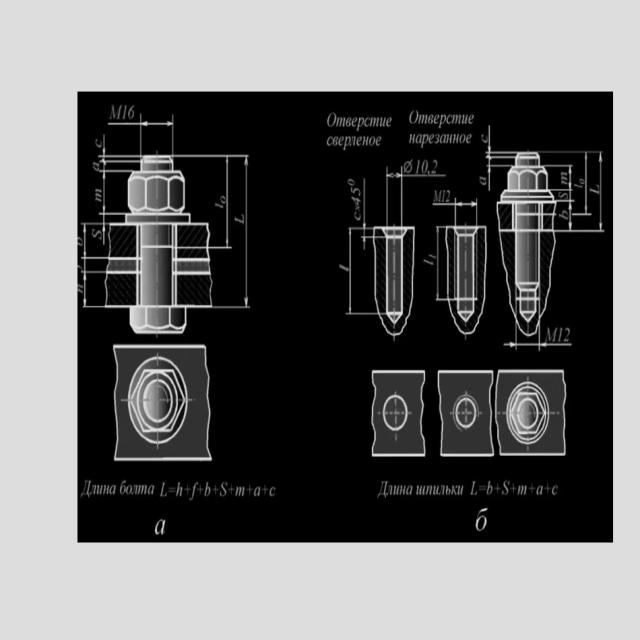marking_line: (214, 153, 250, 309), (558, 149, 604, 234), (395, 165, 446, 226), (557, 152, 592, 233), (108, 114, 176, 154), (79, 220, 106, 311), (347, 226, 374, 315), (211, 153, 234, 250), (96, 166, 126, 216), (504, 335, 573, 350), (81, 223, 107, 262), (484, 124, 514, 155), (101, 136, 141, 159), (538, 328, 573, 352), (432, 199, 464, 224), (553, 160, 574, 192), (385, 167, 396, 227), (361, 178, 373, 232), (557, 199, 574, 233), (96, 157, 141, 168), (486, 164, 504, 190), (464, 199, 479, 225), (504, 324, 518, 350), (362, 235, 373, 251)
numeric: (563, 327, 571, 342), (128, 104, 135, 119), (421, 159, 428, 174), (431, 158, 438, 173), (351, 196, 362, 205), (557, 326, 563, 342), (351, 187, 361, 196), (122, 105, 127, 120), (415, 159, 420, 174), (445, 188, 450, 203), (428, 252, 436, 260), (442, 187, 446, 202), (579, 178, 585, 185)
special_symbol: (404, 158, 413, 174), (347, 178, 356, 188), (494, 483, 502, 493), (544, 483, 550, 495), (478, 484, 487, 492), (228, 485, 235, 495), (510, 483, 516, 494), (529, 484, 535, 495), (212, 486, 219, 495), (184, 484, 190, 494), (247, 486, 253, 496), (263, 485, 268, 497), (197, 486, 203, 494)
